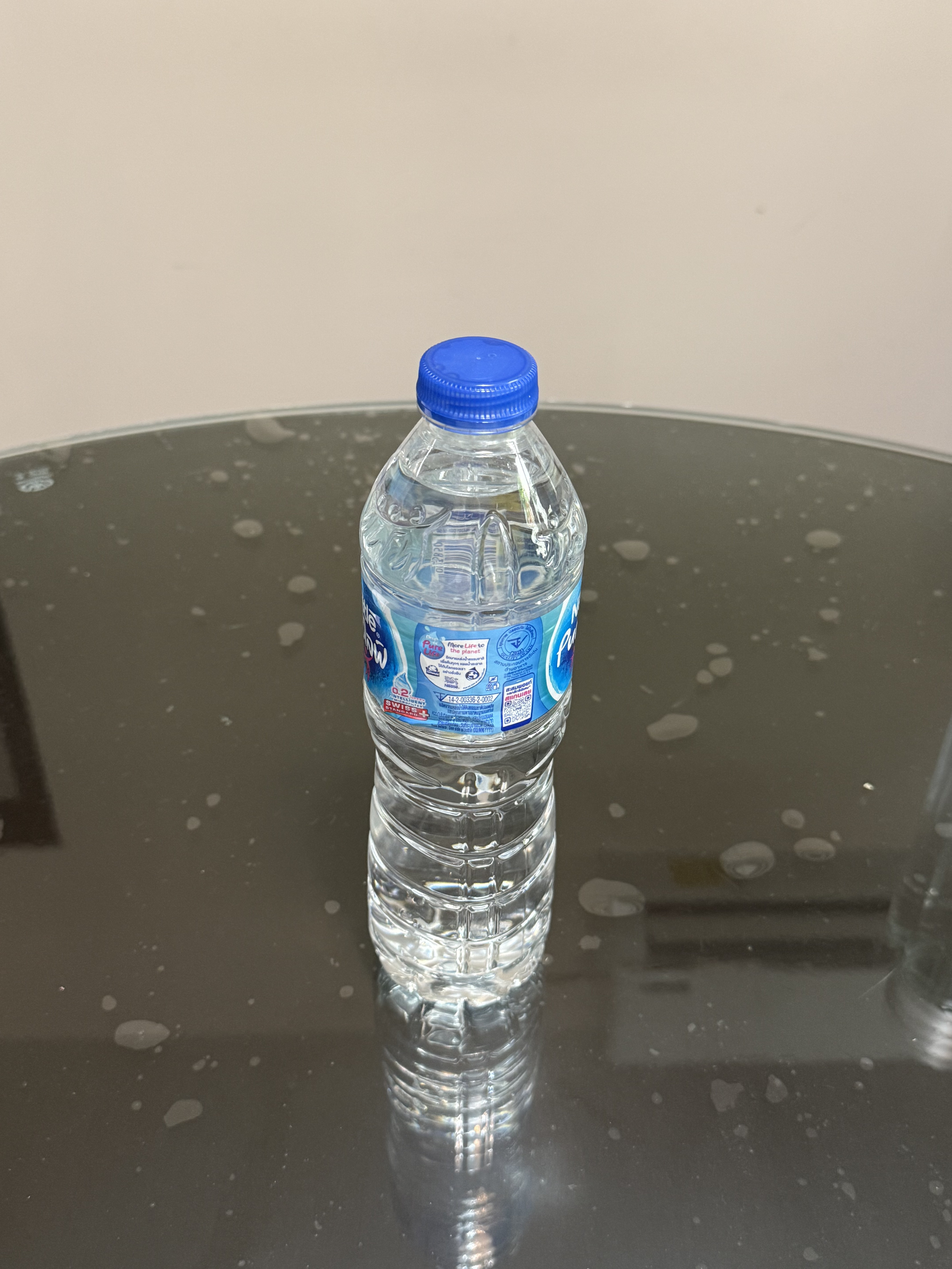closed_cap: (414, 333, 540, 432)
